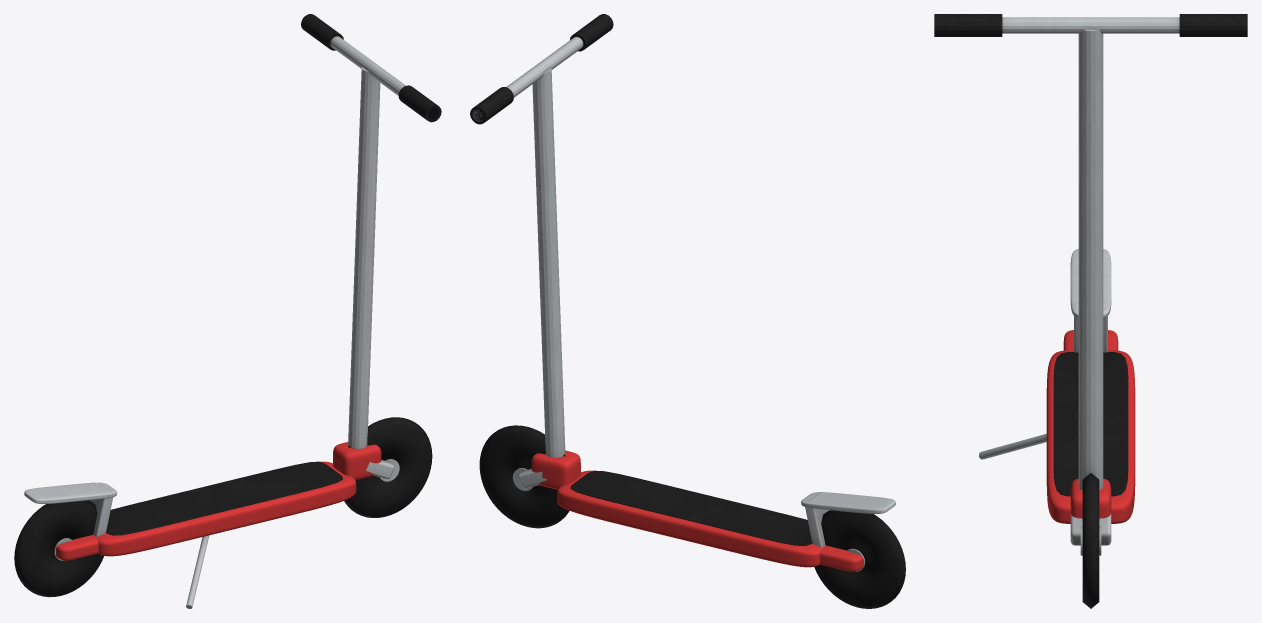
File: red.glb
3 views of the same model, side by side, from view 1: azimuth 30°, elevation 25°; view 2: azimuth 150°, elevation 25°; view 3: azimuth 270°, elevation 25° (orthographic). The views are drawn at different scales.
Parts seen in each view (by area): view 1: aluminium, pu_wheel, paint_primary, griptape, grip_rubber; view 2: aluminium, pu_wheel, paint_primary, griptape, grip_rubber; view 3: aluminium, griptape, paint_primary, grip_rubber, pu_wheel.
Part boxes in pixels (x1,y1,x2,y2): aluminium: (24,36,405,608); pu_wheel: (14,417,432,597); paint_primary: (56,442,381,560); griptape: (105,461,342,535); grip_rubber: (301,14,441,122); aluminium: (472,36,895,571); pu_wheel: (479,425,905,608); paint_primary: (531,450,863,571); griptape: (570,470,812,545); grip_rubber: (470,14,613,124); aluminium: (979,17,1179,555); griptape: (1053,352,1128,496); paint_primary: (1046,330,1135,523); grip_rubber: (934,14,1247,36); pu_wheel: (1082,473,1099,608).
Bounding box in the file's own units: 0.89 × 0.9423 × 0.46.
Materials: 5 (4 with a texture image).
